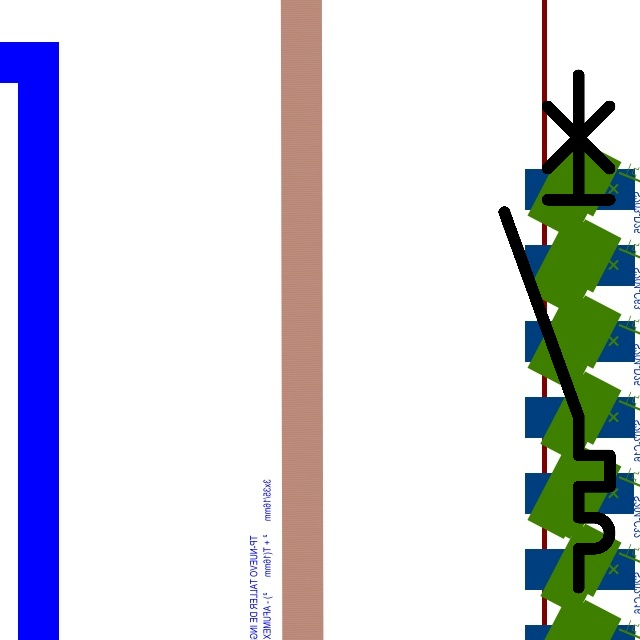interruptor_termomagnetico: (491, 62, 623, 601)
